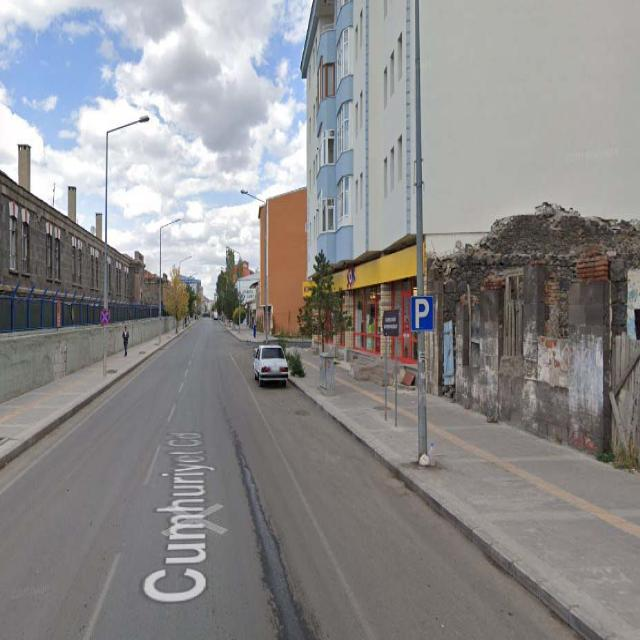park: (412, 293, 434, 335)
